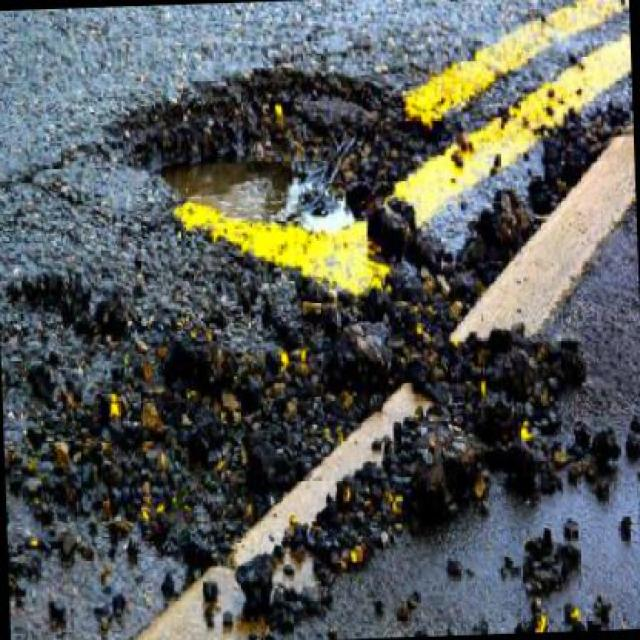pothole1: (100, 53, 454, 225)
